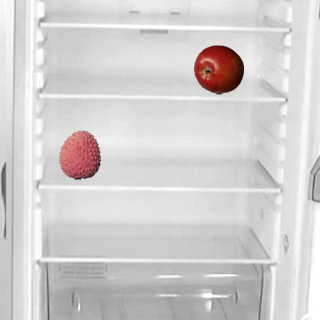Apple Braeburn: (193, 44, 243, 94)
Lychee: (54, 129, 104, 179)
